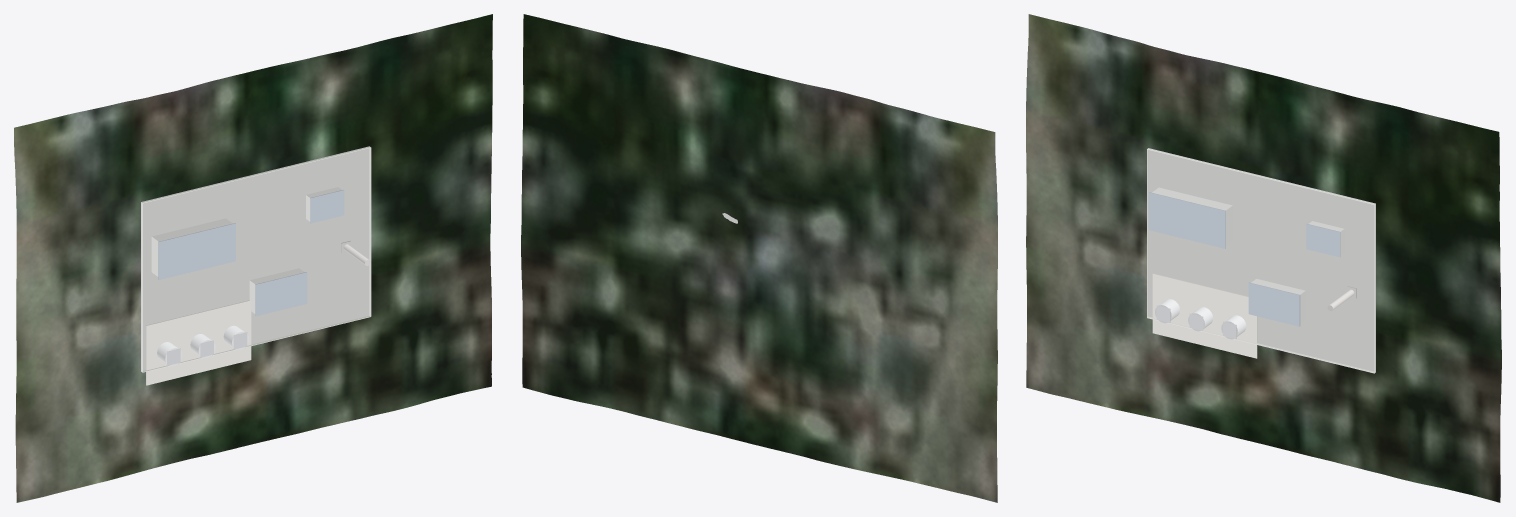
File: qingyuan-factory.glb
The picture shows the model from 3 angles, left to right: view 1: azimuth 30°, elevation 25°; view 2: azimuth 150°, elevation 25°; view 3: azimuth 330°, elevation 25°; orthographic projection.
Parts seen in each view (by area): view 1: RealTerrain; view 2: RealTerrain; view 3: RealTerrain.
Boxes of the visible parts, x1,y1,x2,y2 form: RealTerrain: [14, 14, 492, 502]; RealTerrain: [521, 14, 997, 502]; RealTerrain: [1026, 14, 1501, 502].
Size of the model in its own units: 500 by 375 by 46.46.
2 materials, 1 textured.
